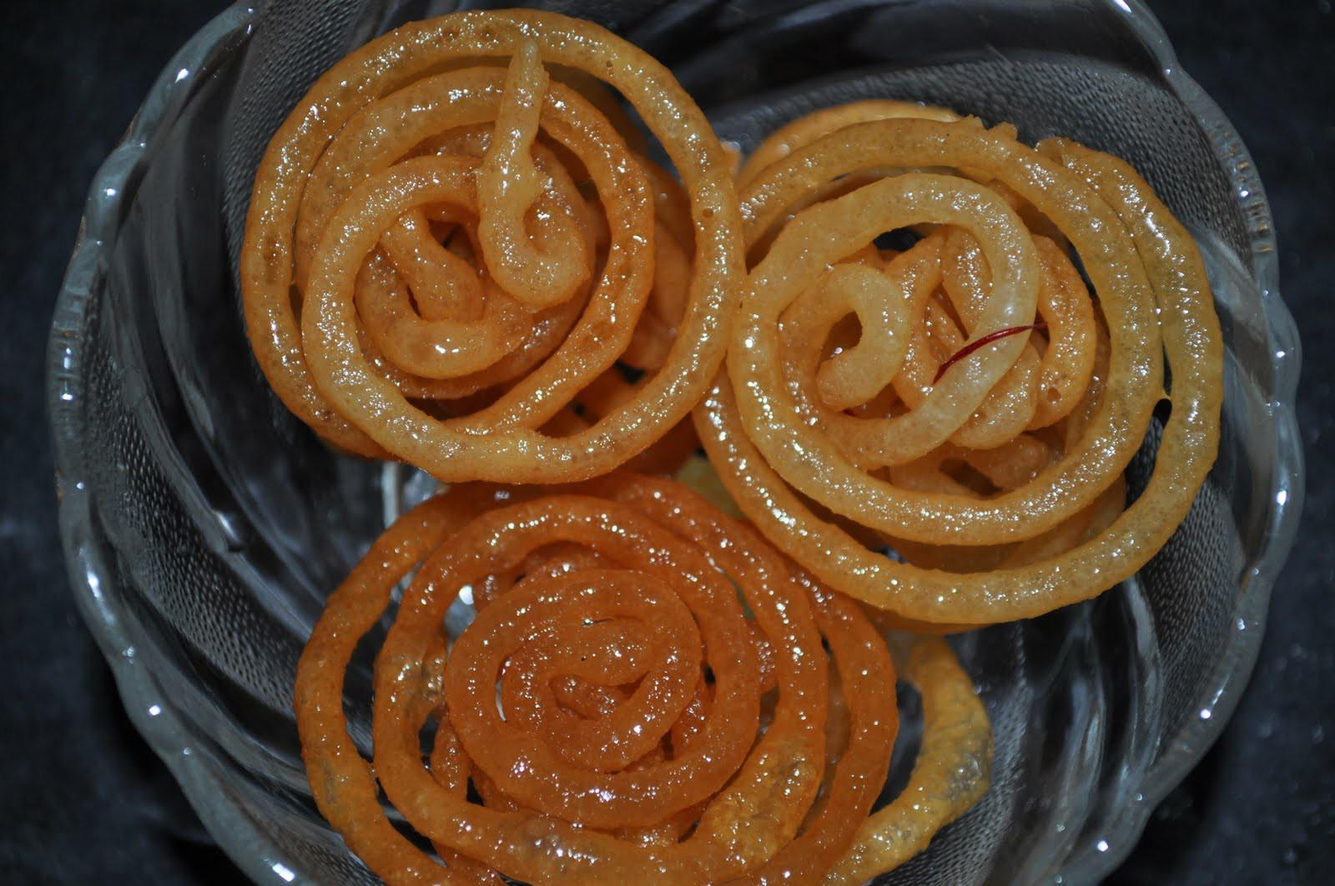Jalebi: (238, 2, 1228, 886)
